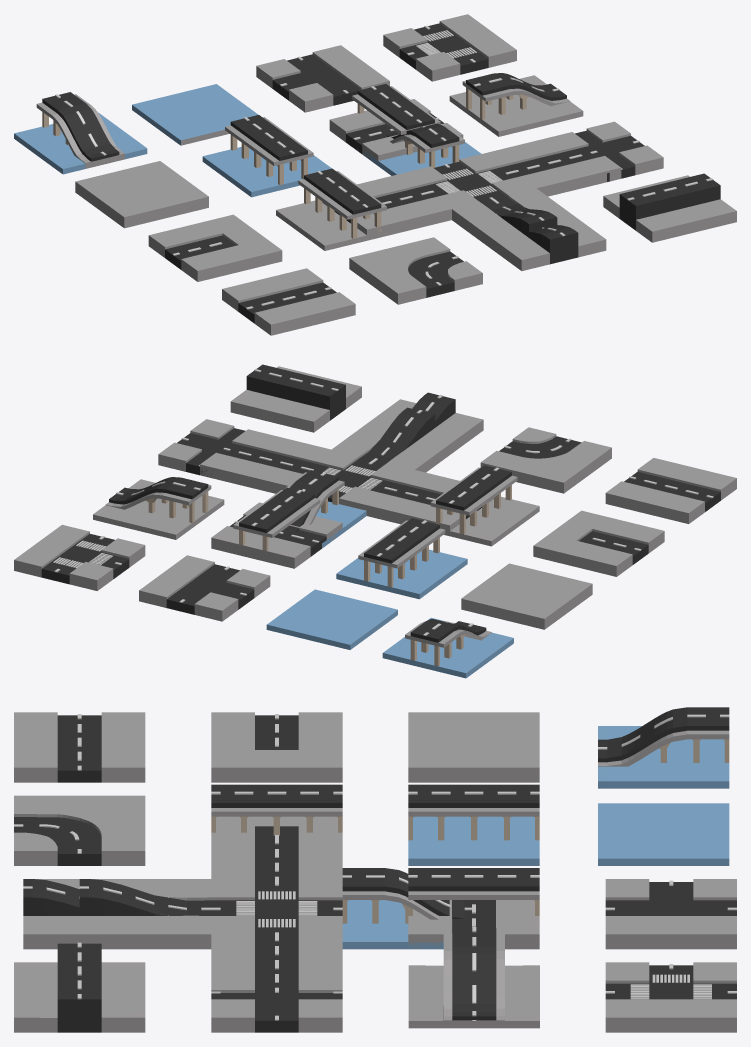
File: quaternius-street-streets-all.glb
The picture shows the model from 3 angles, top to bottom: view 1: azimuth 30°, elevation 25°; view 2: azimuth 150°, elevation 25°; view 3: azimuth 270°, elevation 25°; orthographic projection. The views are drawn at different scales.
Visible parts, largest first — view 1: Street_Water; view 2: Street_Water; view 3: Street_Water.
Part boxes in pixels (left/top/right/bottom): Street_Water: left=14, top=14, right=736, bottom=335; Street_Water: left=14, top=364, right=736, bottom=678; Street_Water: left=14, top=707, right=736, bottom=1032.
Bounding box in the file's own units: 11 × 0.7681 × 11.
Materials: 1 (1 with a texture image).
